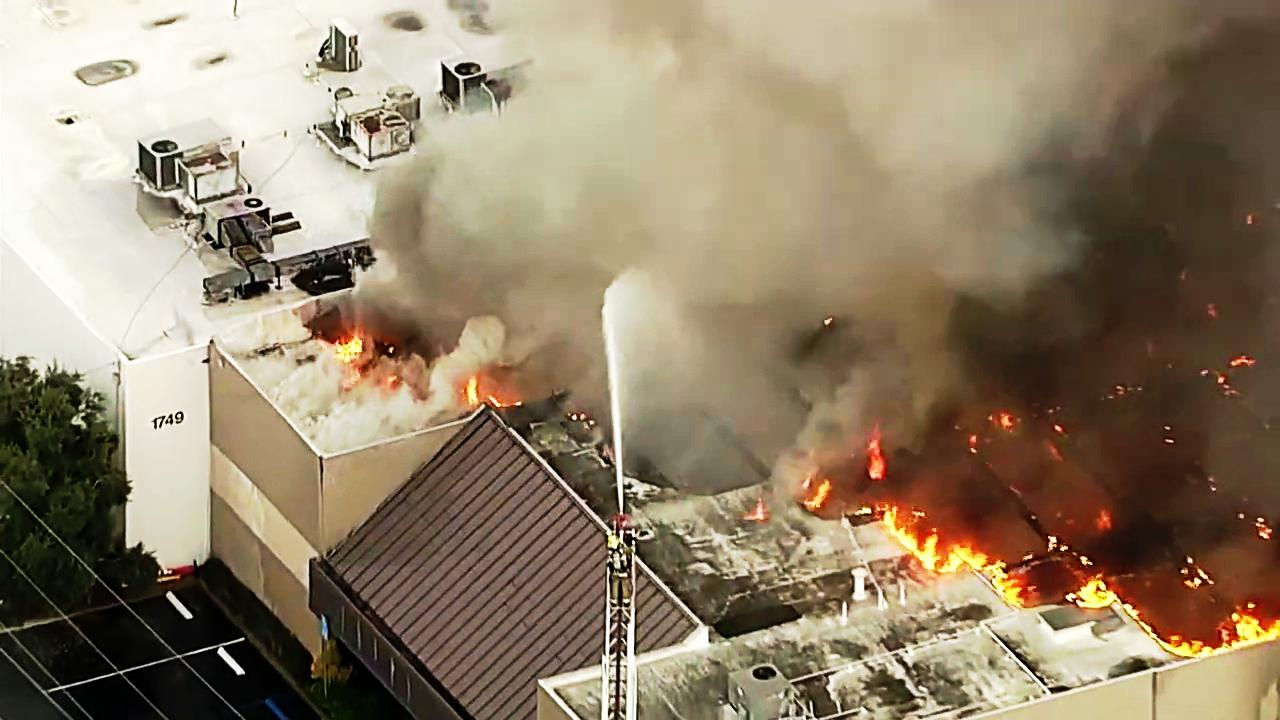smoke: (645, 35, 1234, 332)
